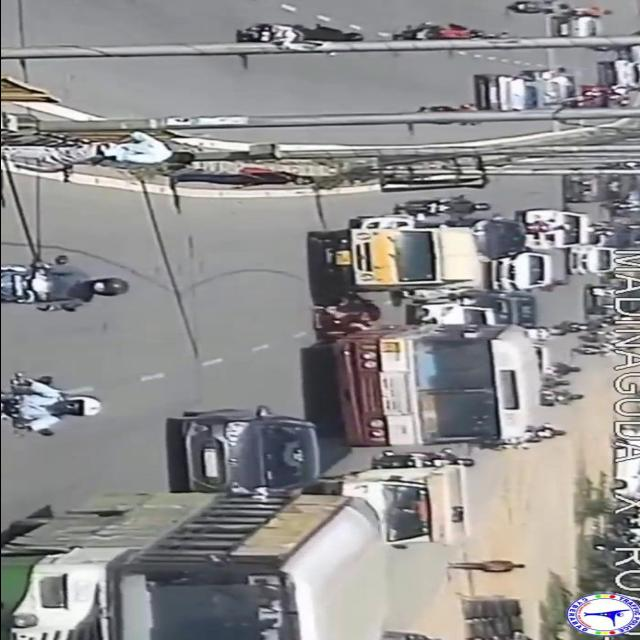accident: (305, 220, 559, 451)
non_accident: (0, 406, 474, 640), (485, 171, 640, 297), (456, 46, 640, 113)
